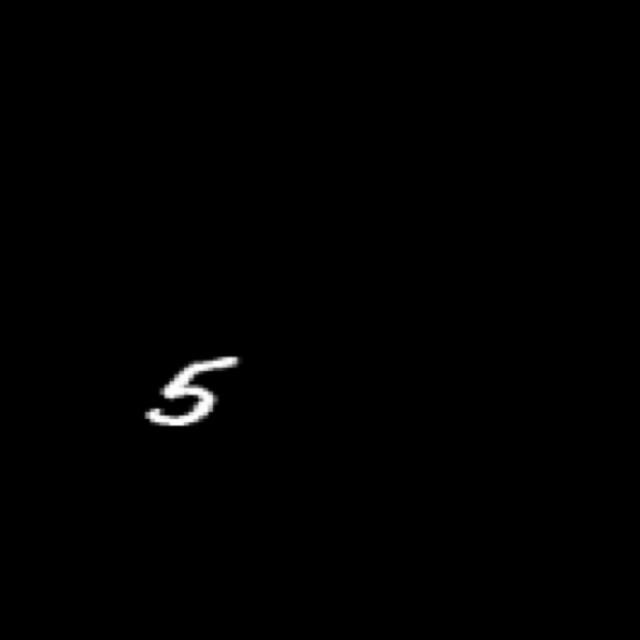five -5-: (144, 353, 244, 433)
